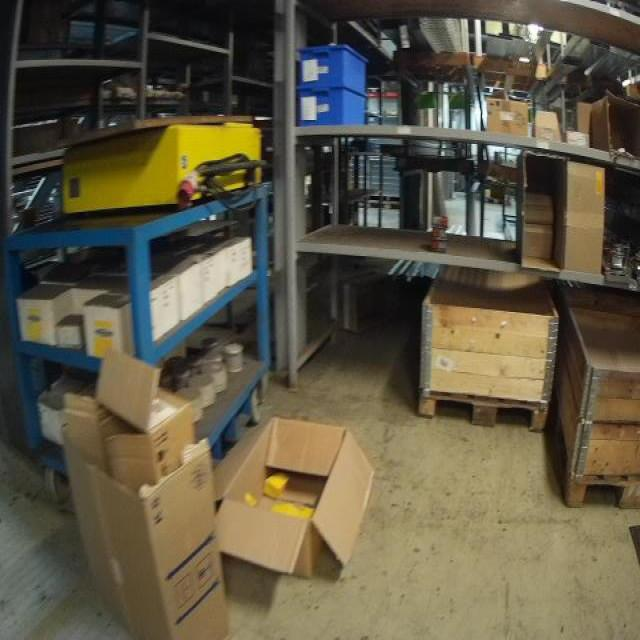pallet: (553, 398, 640, 511), (417, 386, 551, 436)
small_load_carrier: (295, 40, 370, 93), (295, 87, 371, 125)
